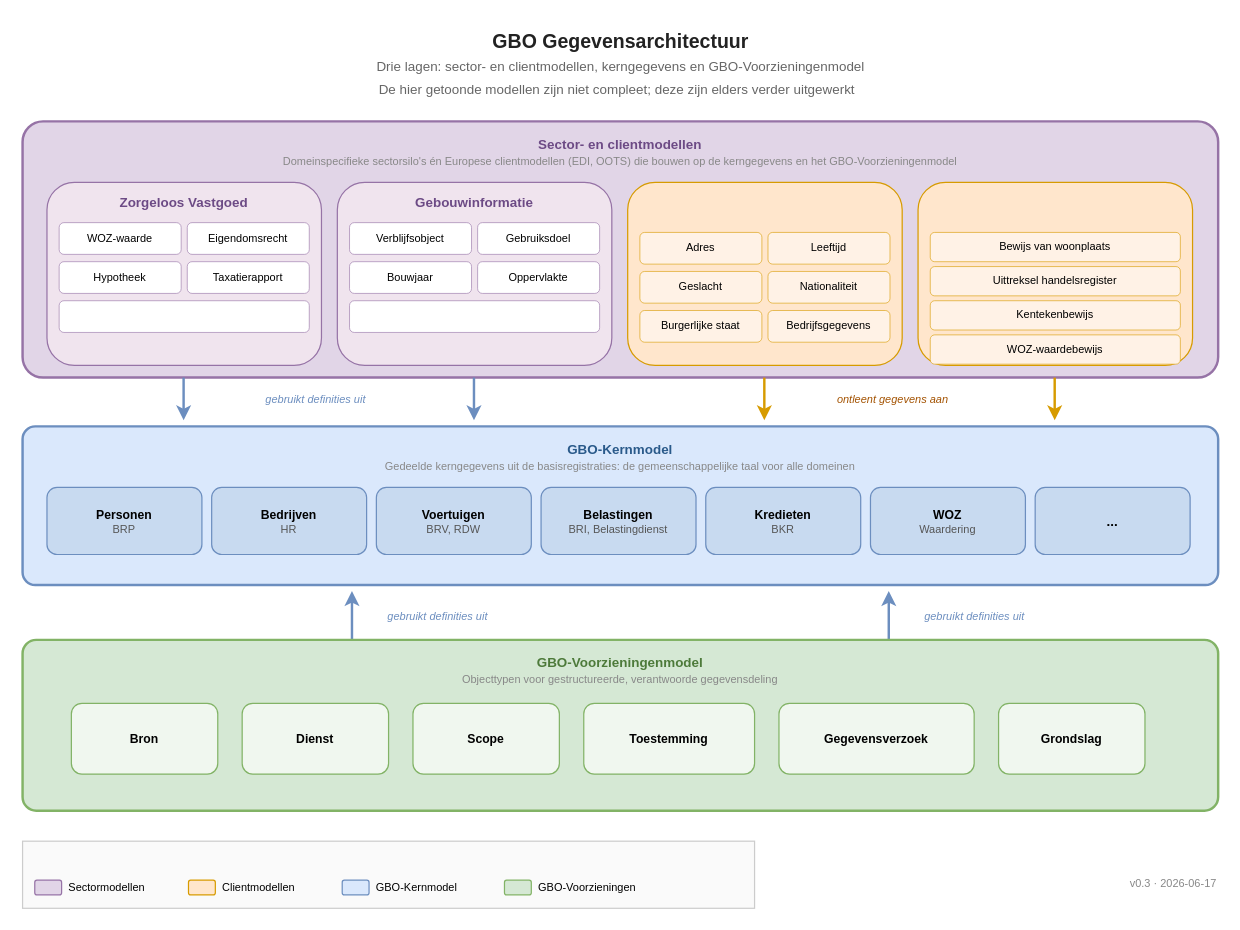
The diagram is 1240 pixels wide and 930 high, and some of its shapes have lost their labels. The box of each missing label's shape, as (x1, y1, x2, y2) in pixels:
EDI EUDI-wallet · attestaties: (626, 181, 902, 365)
Inkomen: (58, 300, 309, 332)
Legenda: (21, 840, 755, 908)
OOTS SDG · evidence/bewijsstukken: (917, 181, 1193, 365)
Pandstatus: (349, 300, 599, 332)
